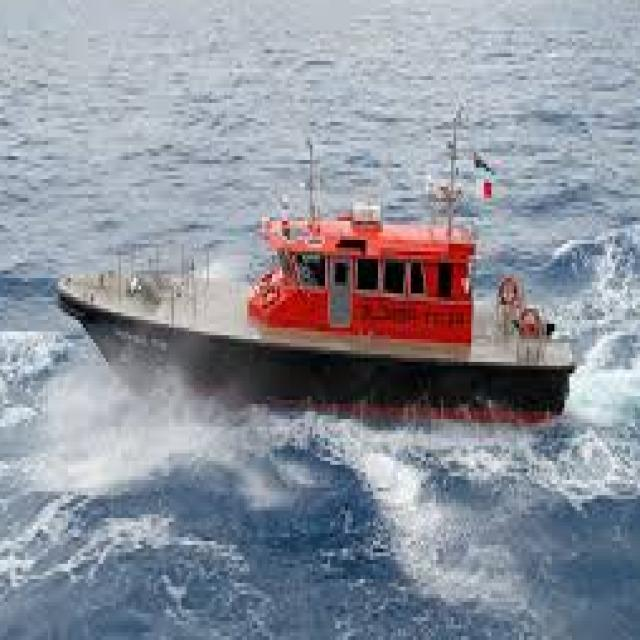houseboat: (61, 109, 590, 428)
